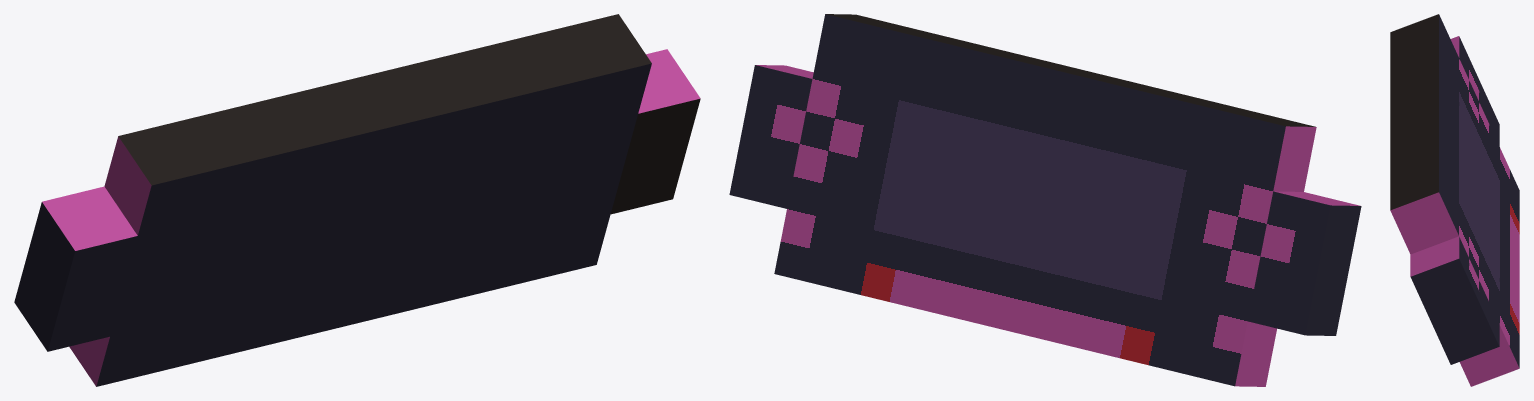
The model's file is item_paladin.gltf.
The picture shows the model from 3 angles, left to right: view 1: azimuth 30°, elevation 25°; view 2: azimuth 150°, elevation 25°; view 3: azimuth 270°, elevation 25°; orthographic projection. The views are drawn at different scales.
Visible parts, largest first — view 1: cube (×3); view 2: cube (×3); view 3: cube (×3).
Boxes of the visible parts, box(x1,y1,x2,y2) form: cube (×3): box(14, 14, 700, 386); cube (×3): box(729, 14, 1361, 386); cube (×3): box(1390, 14, 1519, 386).
Size of the model in its own units: 0.625 by 0.2549 by 0.1534.
1 material, 1 textured.
